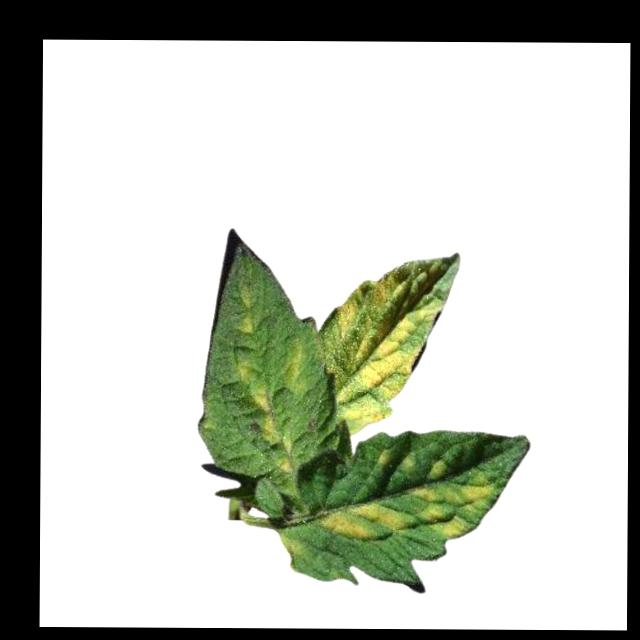Leaf_Mold: (322, 255, 447, 436), (411, 471, 493, 539), (320, 499, 407, 547), (250, 382, 279, 439), (284, 335, 311, 395), (274, 435, 297, 474), (277, 533, 303, 556), (235, 354, 254, 382), (370, 447, 392, 468), (236, 313, 255, 333)
